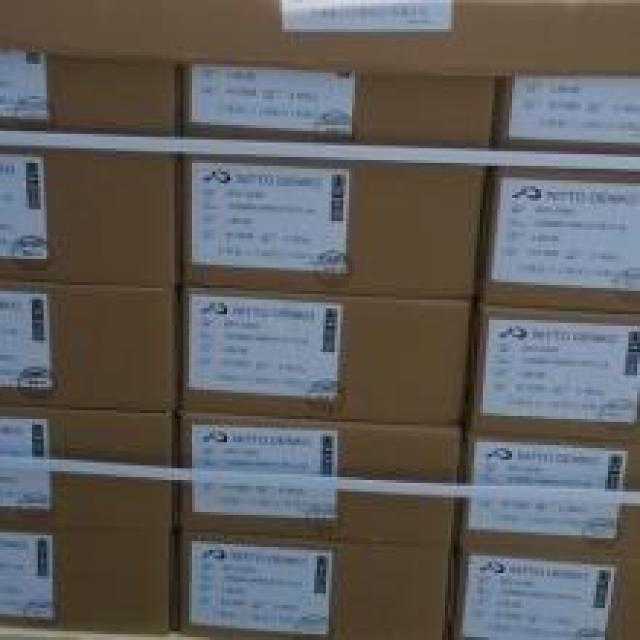box: (186, 139, 489, 298), (177, 285, 471, 430), (179, 405, 458, 548), (175, 521, 451, 640), (187, 58, 501, 158), (0, 140, 187, 295), (0, 400, 180, 541), (471, 296, 640, 440), (0, 280, 181, 414), (482, 168, 640, 319), (460, 423, 640, 554), (0, 526, 185, 640), (448, 535, 640, 640), (0, 43, 192, 134), (486, 76, 640, 143)
